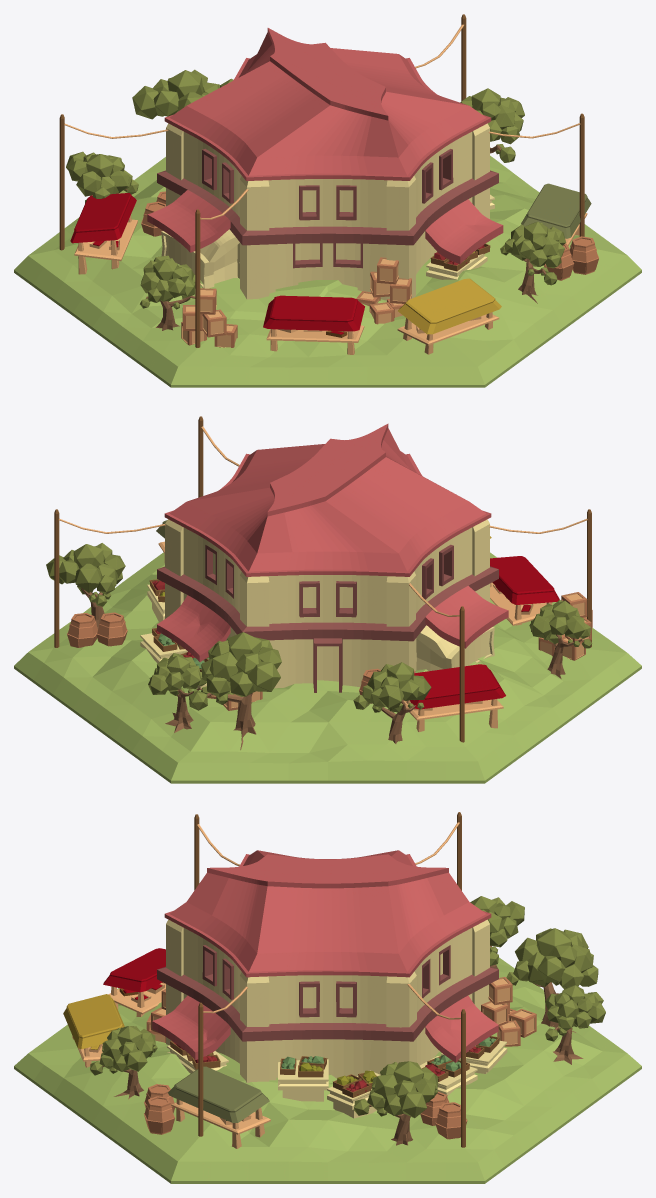
The model's file is market.glb.
3 views of the same model, one above another, from view 1: azimuth 30°, elevation 25°; view 2: azimuth 150°, elevation 25°; view 3: azimuth 270°, elevation 25° (orthographic).
Parts seen in each view (by area): view 1: market; view 2: market; view 3: market.
Part boxes in pixels (x1=…): market: x1=14, y1=14, x2=641, y2=387; market: x1=14, y1=416, x2=641, y2=783; market: x1=14, y1=812, x2=641, y2=1183.
Bounding box in the file's own units: 1.74 × 0.7066 × 2.
1 material, 1 textured.
